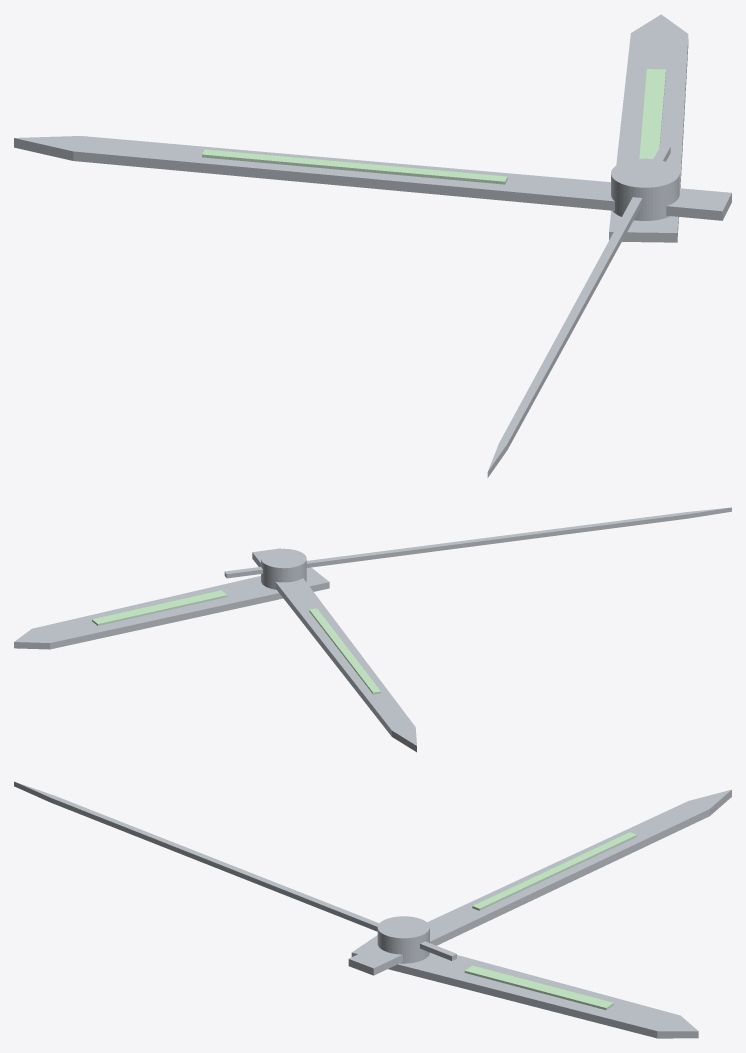
File: hands-baton-nh05-34.glb
3 renders of one model, top to bottom at view 1: azimuth 30°, elevation 25°; view 2: azimuth 150°, elevation 25°; view 3: azimuth 270°, elevation 25°, orthographic. The views are drawn at different scales.
Parts seen in each view (by area): view 1: DD_HAND_MINUTE, DD_HAND_HOUR, DD_HAND_SECONDS, DD_HAND_HUB, DD_HAND_MINUTE_LUME, DD_HAND_HOUR_LUME; view 2: DD_HAND_HOUR, DD_HAND_MINUTE, DD_HAND_SECONDS, DD_HAND_HUB, DD_HAND_HOUR_LUME, DD_HAND_MINUTE_LUME; view 3: DD_HAND_MINUTE, DD_HAND_HOUR, DD_HAND_SECONDS, DD_HAND_HUB, DD_HAND_HOUR_LUME, DD_HAND_MINUTE_LUME.
Boxes of the visible parts, x1,y1,x2,y2 form: DD_HAND_MINUTE: [14, 136, 731, 220]; DD_HAND_HOUR: [609, 14, 688, 242]; DD_HAND_SECONDS: [487, 145, 670, 477]; DD_HAND_HUB: [611, 158, 679, 220]; DD_HAND_MINUTE_LUME: [202, 149, 507, 184]; DD_HAND_HOUR_LUME: [639, 69, 665, 158]; DD_HAND_HOUR: [14, 567, 329, 649]; DD_HAND_MINUTE: [252, 548, 416, 752]; DD_HAND_SECONDS: [224, 507, 731, 578]; DD_HAND_HUB: [261, 548, 306, 589]; DD_HAND_HOUR_LUME: [92, 590, 227, 625]; DD_HAND_MINUTE_LUME: [309, 608, 380, 694]; DD_HAND_MINUTE: [348, 789, 731, 975]; DD_HAND_HOUR: [351, 935, 698, 1038]; DD_HAND_SECONDS: [14, 781, 456, 960]; DD_HAND_HUB: [377, 916, 429, 963]; DD_HAND_HOUR_LUME: [464, 965, 613, 1009]; DD_HAND_MINUTE_LUME: [472, 832, 636, 910].
Size of the model in its own units: 10.23 by 0.685 by 13.39.
